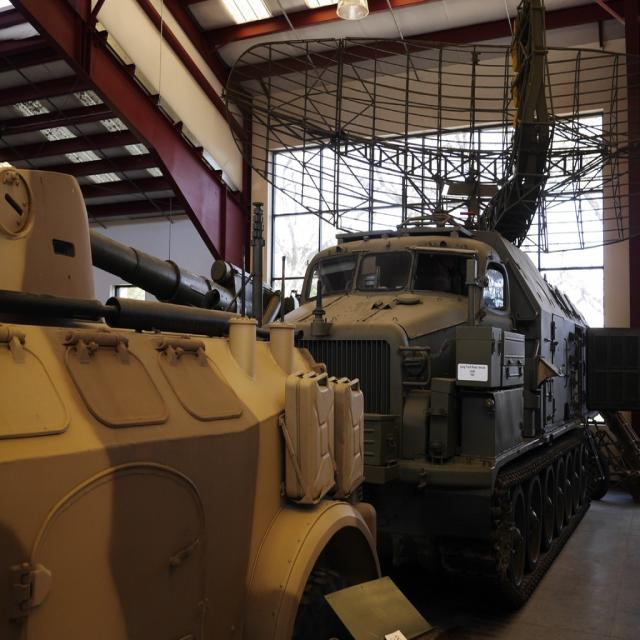tank: (0, 169, 432, 639), (278, 174, 608, 612), (84, 224, 290, 323)
